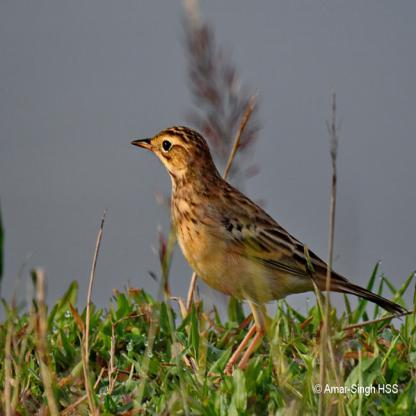Burung: (131, 126, 405, 379)
